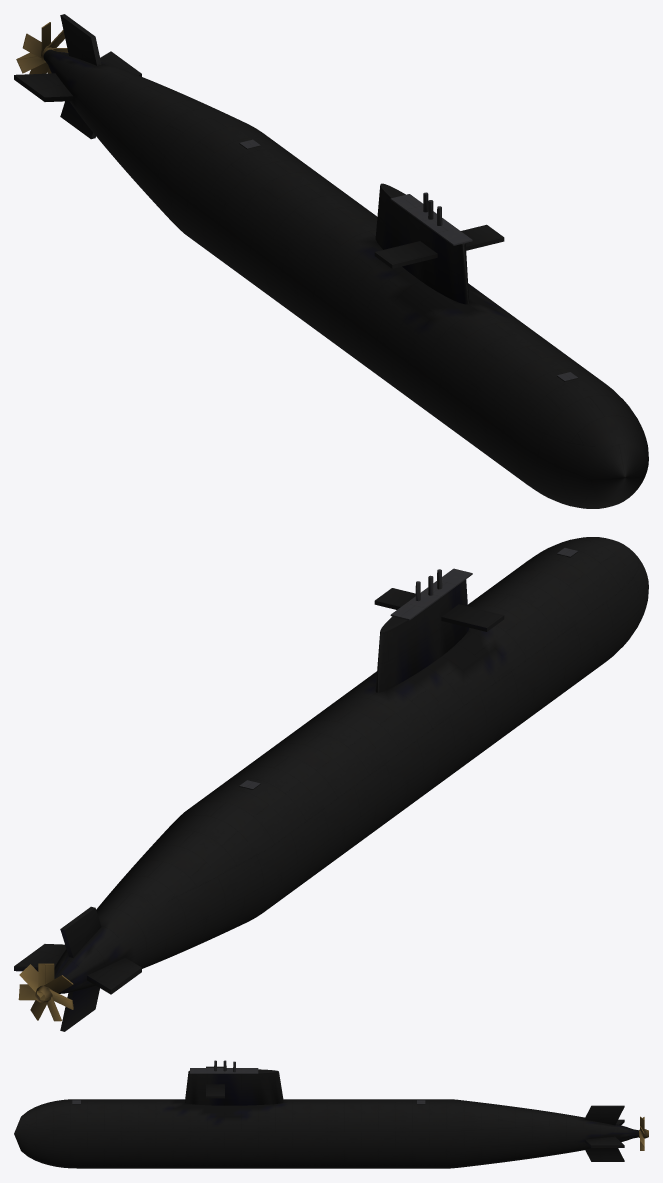
The model's file is model_built.glb.
3 renders of one model, top to bottom at view 1: azimuth 30°, elevation 25°; view 2: azimuth 150°, elevation 25°; view 3: azimuth 270°, elevation 25°, orthographic. The views are drawn at different scales.
Visible parts, largest first — view 1: boat; view 2: boat; view 3: boat.
Part boxes in pixels (x1,y1,x2,y2): boat: (14,14,648,508); boat: (14,537,648,1031); boat: (14,1060,648,1168).
Size of the model in its own units: 7.4 by 12.1 by 66.8.
Materials: 1 (1 with a texture image).
